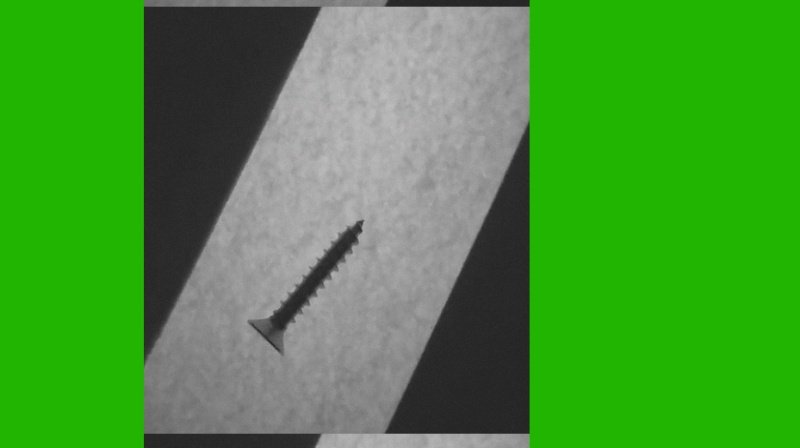S001: (244, 212, 367, 360)
